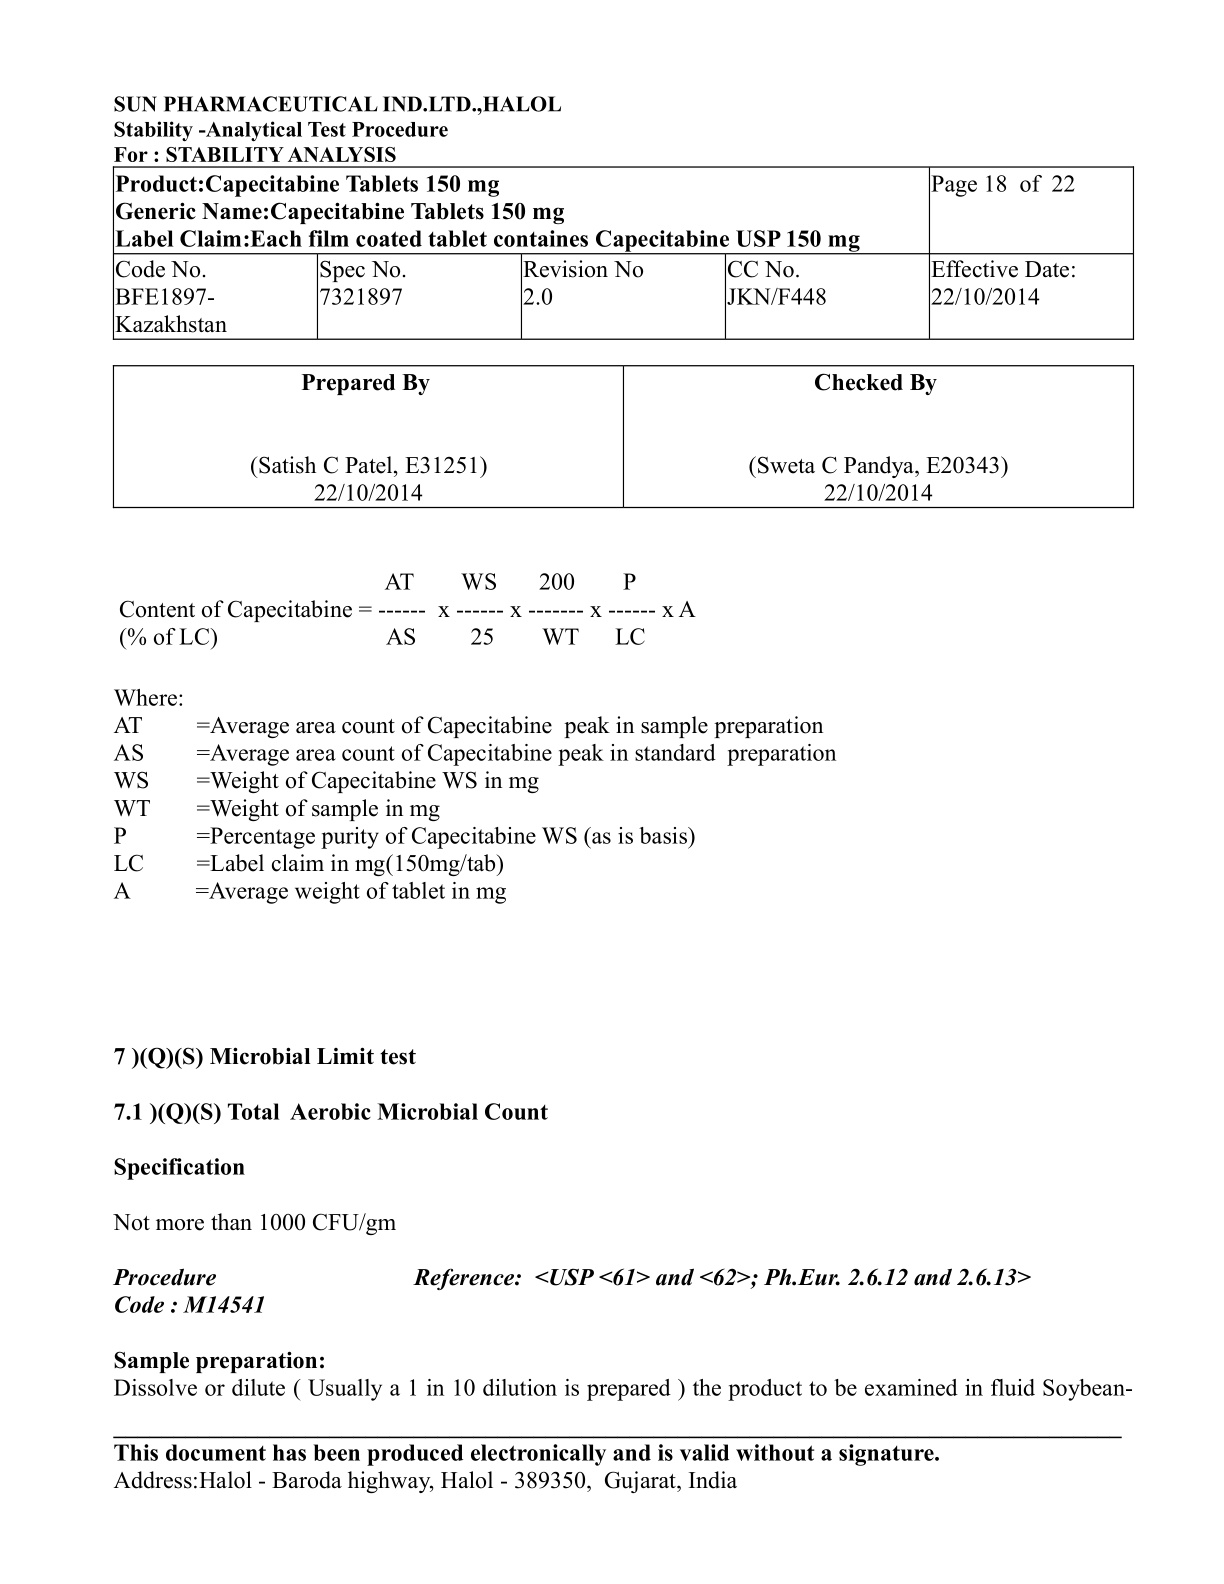full_lined: (111, 364, 1137, 510)
merged_cells: (111, 165, 1135, 341)
nolines: (111, 712, 842, 906)
